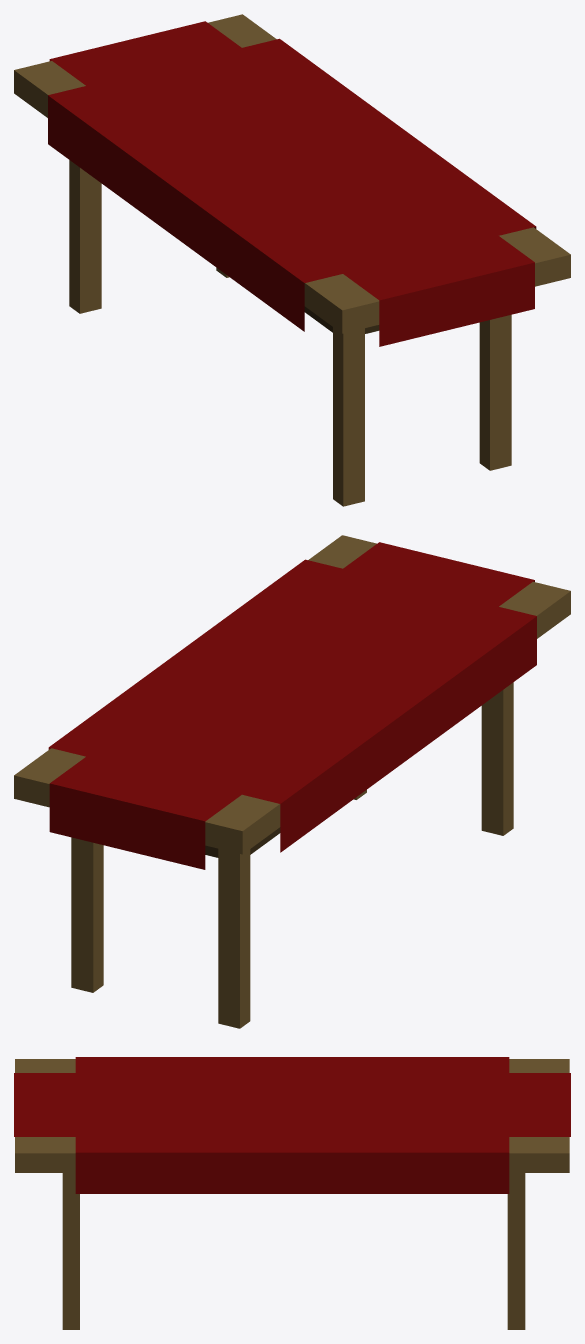
The model's file is Table_With_TableCloth.fbx.
3 views of the same model, one above another, from view 1: azimuth 30°, elevation 25°; view 2: azimuth 150°, elevation 25°; view 3: azimuth 270°, elevation 25° (orthographic). The views are drawn at different scales.
Parts seen in each view (by area): view 1: Table_With_TableCloth; view 2: Table_With_TableCloth; view 3: Table_With_TableCloth.
Part boxes in pixels (x1,y1,x2,y2): Table_With_TableCloth: (14, 14, 570, 506); Table_With_TableCloth: (14, 535, 570, 1028); Table_With_TableCloth: (14, 1057, 570, 1329).
Size of the model in its own units: 132 by 123 by 326.
